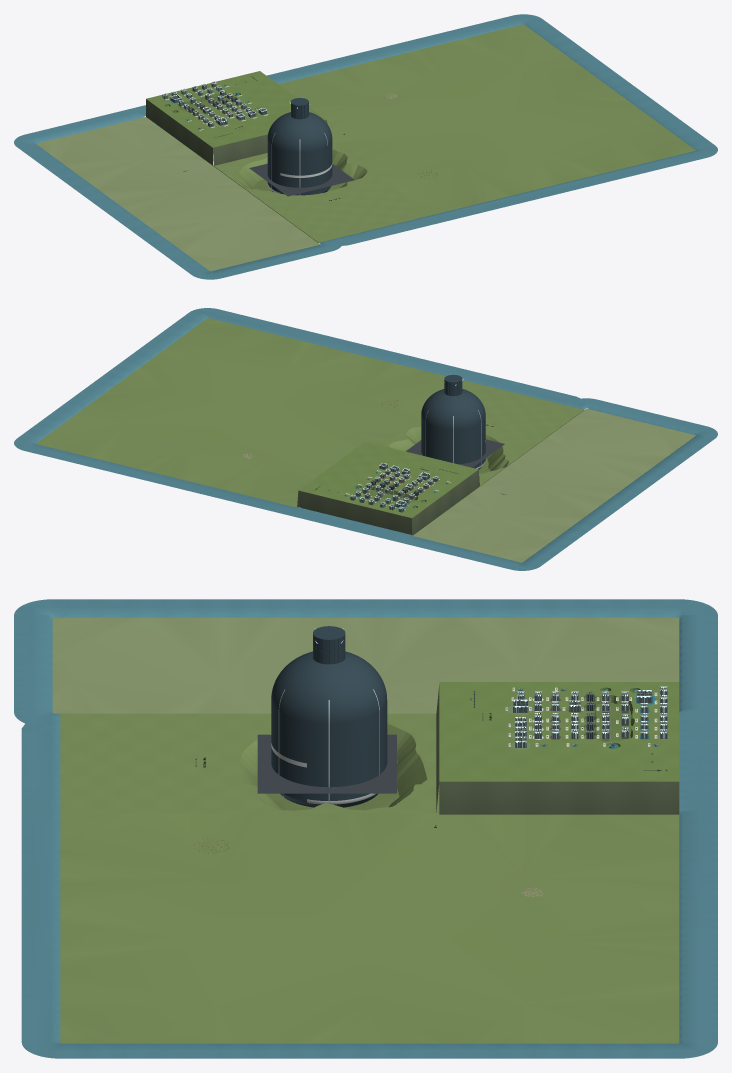
The model's file is tots-20260923.glb.
3 views of the same model, one above another, from view 1: azimuth 30°, elevation 25°; view 2: azimuth 150°, elevation 25°; view 3: azimuth 270°, elevation 25° (orthographic). The views are drawn at different scales.
Parts seen in each view (by area): view 1: TOTS2_地表頂點色__batch, TOTS2_海面頂點色__batch, TOTS2_深灰黑塔__batch, TOTS2_trim__batch, TOTS2_wall__batch, TOTS2_tower_apron__batch, TOTS2_青色結界__batch; view 2: TOTS2_地表頂點色__batch, TOTS2_海面頂點色__batch, TOTS2_深灰黑塔__batch, TOTS2_trim__batch, TOTS2_wall__batch, TOTS2_青色結界__batch, TOTS2_tower_apron__batch; view 3: TOTS2_地表頂點色__batch, TOTS2_海面頂點色__batch, TOTS2_深灰黑塔__batch, TOTS2_tower_apron__batch, TOTS2_wall__batch, TOTS2_trim__batch, TOTS2_青色結界__batch, TOTS2_tower_band__batch.
Boxes of the visible parts, <box> form: TOTS2_地表頂點色__batch: <box>36,24,695,271</box>; TOTS2_海面頂點色__batch: <box>14,14,717,279</box>; TOTS2_深灰黑塔__batch: <box>267,98,332,195</box>; TOTS2_trim__batch: <box>162,81,267,128</box>; TOTS2_wall__batch: <box>162,82,266,129</box>; TOTS2_tower_apron__batch: <box>249,163,354,196</box>; TOTS2_青色結界__batch: <box>162,81,297,123</box>; TOTS2_地表頂點色__batch: <box>36,318,695,562</box>; TOTS2_海面頂點色__batch: <box>14,308,717,570</box>; TOTS2_深灰黑塔__batch: <box>421,374,485,469</box>; TOTS2_trim__batch: <box>345,462,447,511</box>; TOTS2_wall__batch: <box>345,463,447,512</box>; TOTS2_青色結界__batch: <box>351,379,463,508</box>; TOTS2_tower_apron__batch: <box>406,439,504,467</box>; TOTS2_地表頂點色__batch: <box>52,617,679,1043</box>; TOTS2_海面頂點色__batch: <box>14,599,717,1058</box>; TOTS2_深灰黑塔__batch: <box>271,626,387,807</box>; TOTS2_tower_apron__batch: <box>257,734,396,793</box>; TOTS2_wall__batch: <box>513,687,667,747</box>; TOTS2_trim__batch: <box>513,687,667,747</box>; TOTS2_青色結界__batch: <box>315,628,667,747</box>; TOTS2_tower_band__batch: <box>271,689,379,804</box>.
Bounding box in the file's own units: 140 × 21.88 × 91.
Materials: 28 (1 with a texture image).
